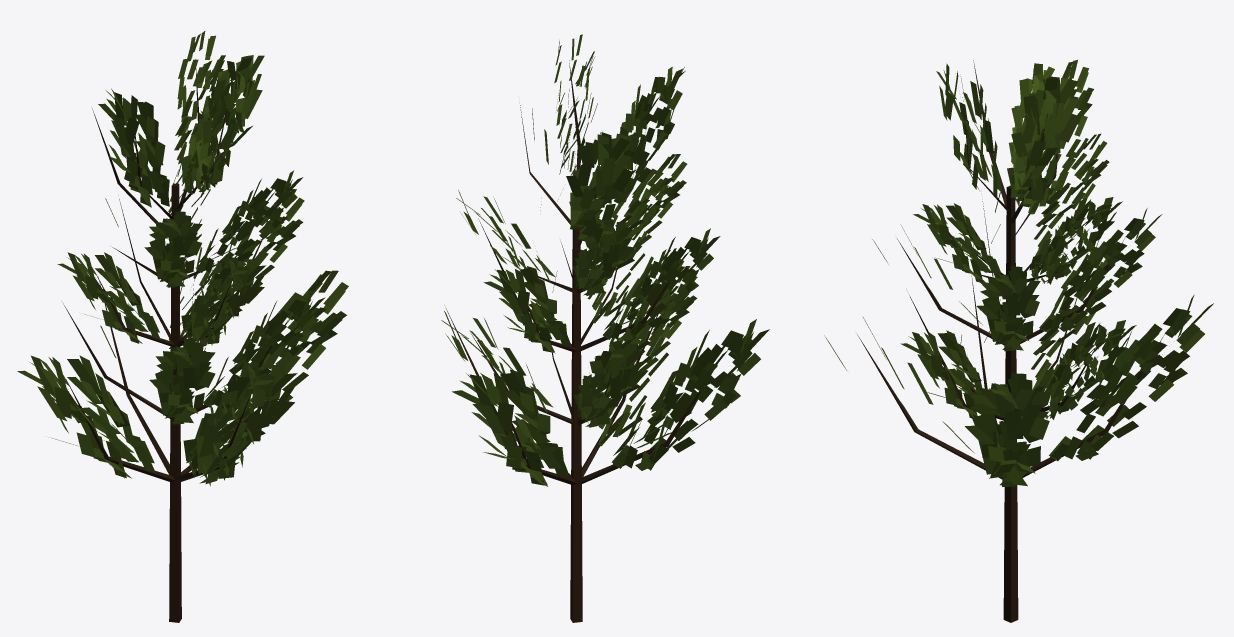
The model's file is tree-zsky.glb.
3 views of the same model, side by side, from view 1: azimuth 30°, elevation 25°; view 2: azimuth 150°, elevation 25°; view 3: azimuth 270°, elevation 25° (orthographic).
Parts seen in each view (by area): view 1: Tree1; view 2: Tree1; view 3: Tree1.
Part boxes in pixels (left/top/right/bottom): Tree1: left=17, top=31, right=348, bottom=622; Tree1: left=441, top=34, right=769, bottom=622; Tree1: left=824, top=60, right=1213, bottom=622.
Bounding box in the file's own units: 9.45 × 14.64 × 9.57.
